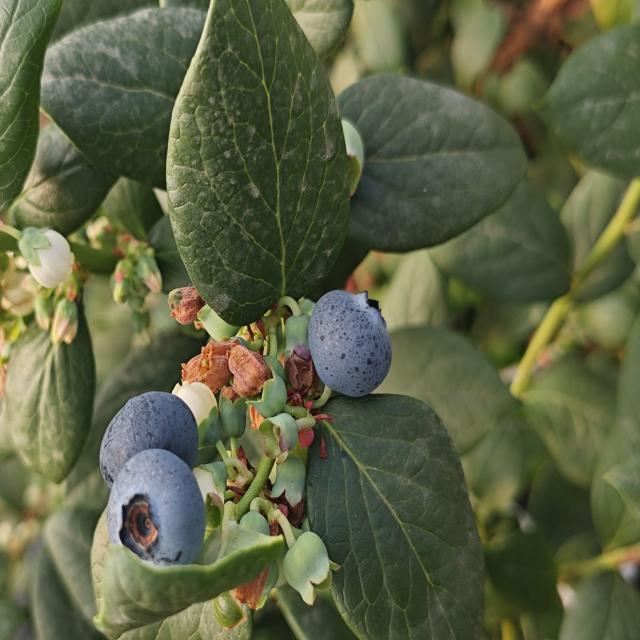ripe: (99, 444, 207, 567), (97, 388, 201, 492), (306, 288, 393, 400)
